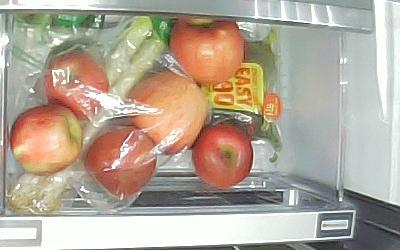apple: (169, 17, 245, 85), (10, 104, 82, 174), (192, 123, 254, 188)
apple_vinyl: (127, 70, 207, 156), (86, 125, 160, 198), (43, 51, 110, 118)
